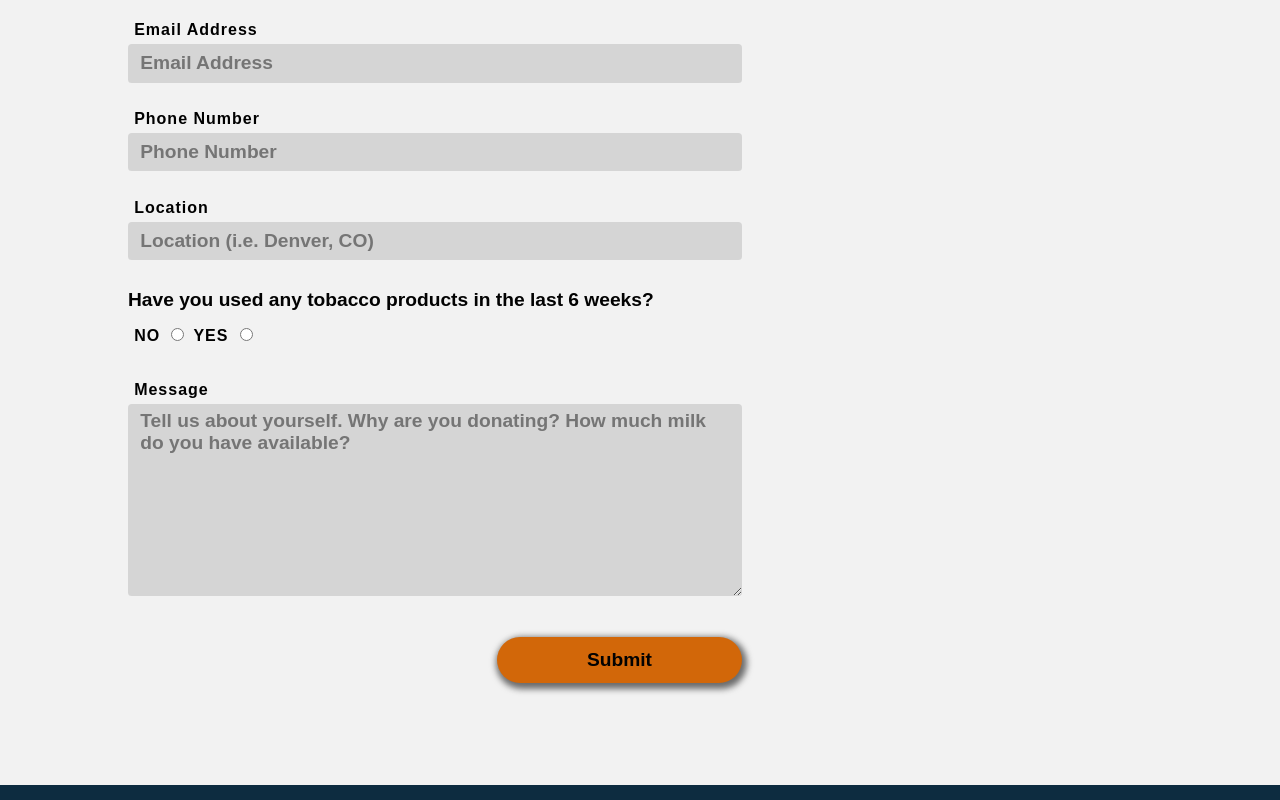
Scenario: Donate milk form user flow › Should not have visible email error message after correcting
(page scrolled)
Click the button with test id "donate-submit-button" at (620, 660), box [497,636,743,683]
(page scrolled)
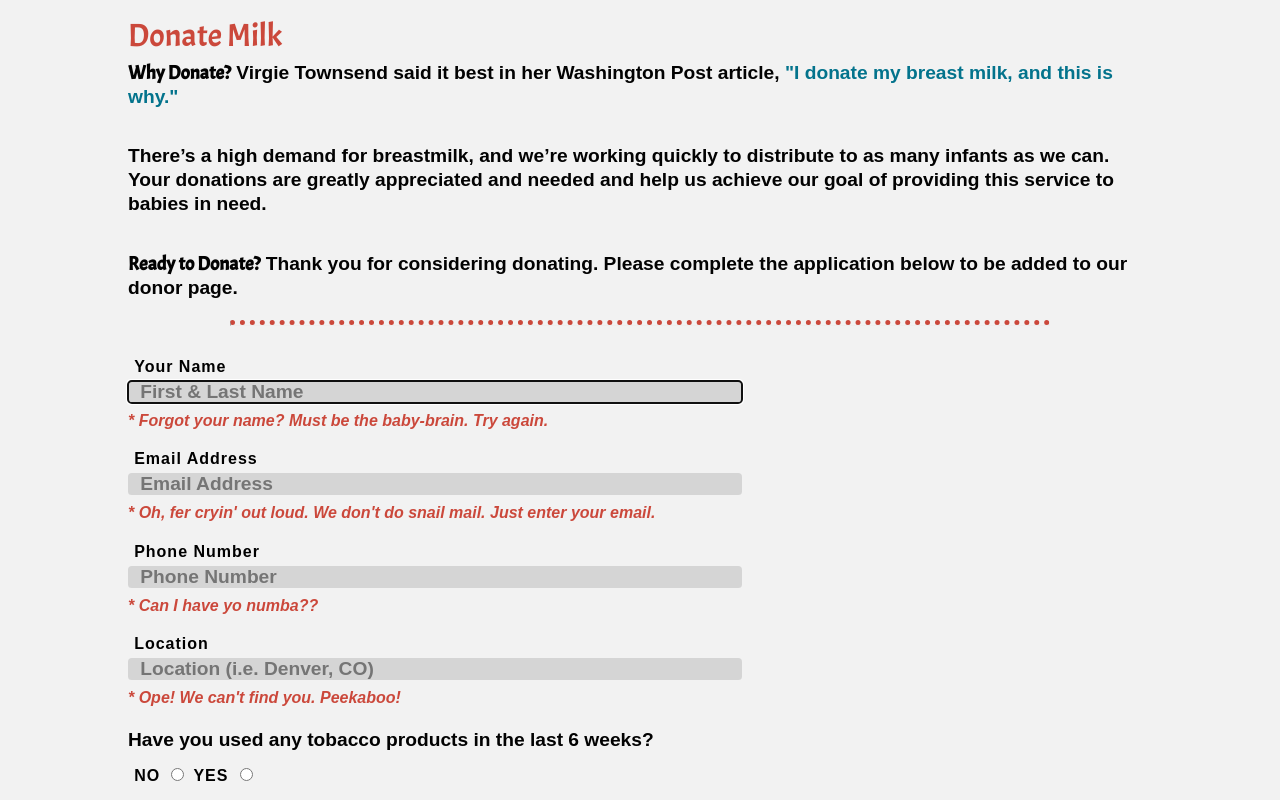
Result: the text with test id "donor-email-error" is shown at [128,503,742,523]
Type "janedoe@example.com" into the field named "donorEmail" at (435, 484), box [128,473,742,495]
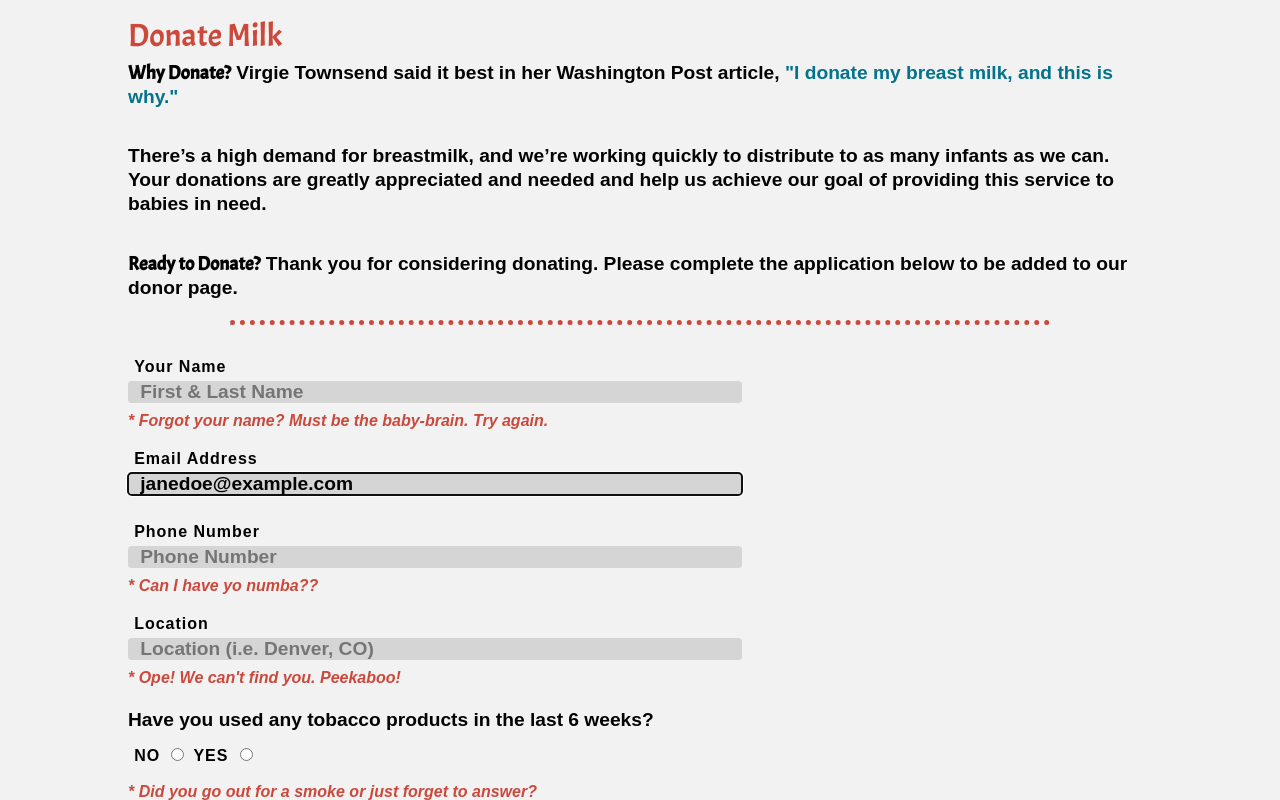
Result: the text with test id "donor-email-error" is gone
